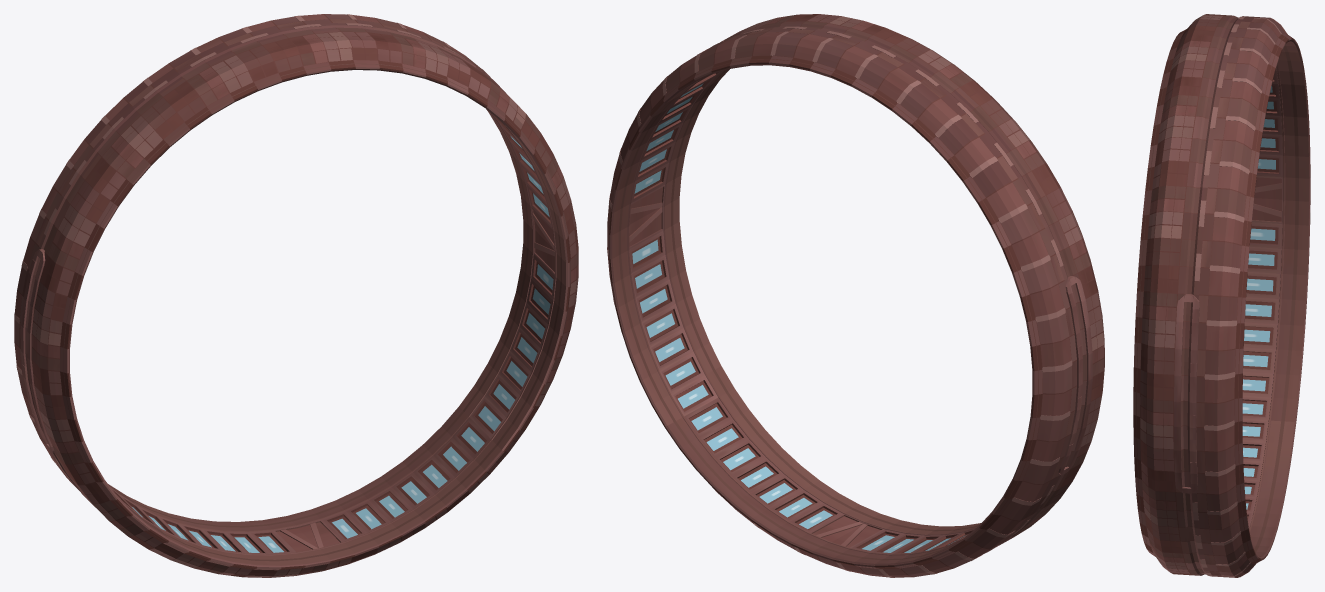
File: vulcan_cylinder.obj
The picture shows the model from 3 angles, left to right: view 1: azimuth 30°, elevation 25°; view 2: azimuth 150°, elevation 25°; view 3: azimuth 270°, elevation 25°; orthographic projection. The views are drawn at different scales.
Visible parts, largest first — view 1: Cylinder.001, Cylinder.003_Cylinder.004, Cylinder.004_Cylinder.005; view 2: Cylinder.001, Cylinder.003_Cylinder.004, Cylinder.004_Cylinder.005; view 3: Cylinder.001, Cylinder.003_Cylinder.004, Cylinder.004_Cylinder.005.
Part boxes in pixels (bbox=[...]): Cylinder.001: bbox=[14, 14, 578, 577]; Cylinder.003_Cylinder.004: bbox=[132, 136, 553, 552]; Cylinder.004_Cylinder.005: bbox=[20, 249, 54, 452]; Cylinder.001: bbox=[607, 14, 1104, 577]; Cylinder.003_Cylinder.004: bbox=[632, 83, 964, 552]; Cylinder.004_Cylinder.005: bbox=[1058, 276, 1092, 475]; Cylinder.001: bbox=[1133, 14, 1310, 577]; Cylinder.003_Cylinder.004: bbox=[1242, 86, 1275, 509]; Cylinder.004_Cylinder.005: bbox=[1174, 294, 1199, 493].
Size of the model in its own units: 58.43 by 58.09 by 18.36.
Materials: 7 (7 with a texture image).
